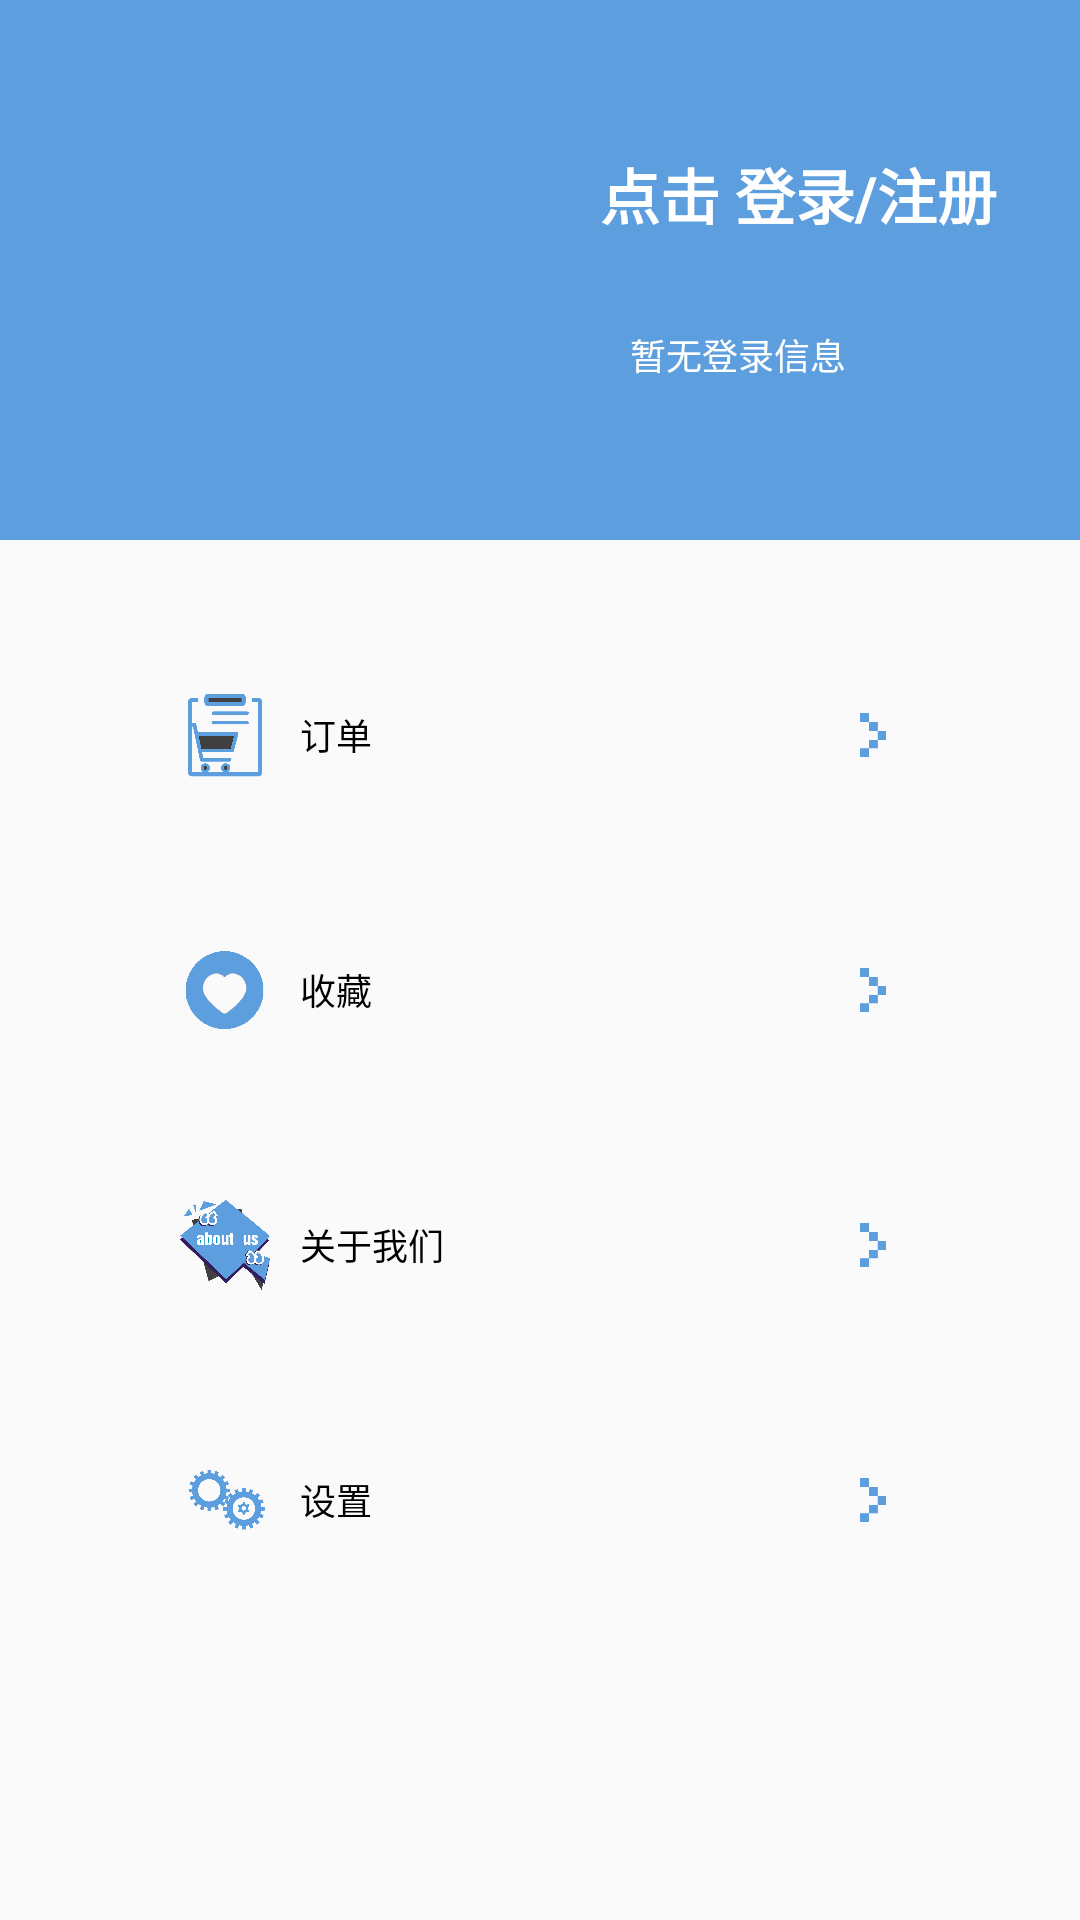

Icons on this 1080px×1920px Android screen, each with the point to tap as (x=x, y=y):
collect: (x=224, y=990)
next: (x=873, y=735), (x=873, y=990), (x=873, y=1245), (x=873, y=1500)
order: (x=225, y=735)
setting: (x=227, y=1500)
